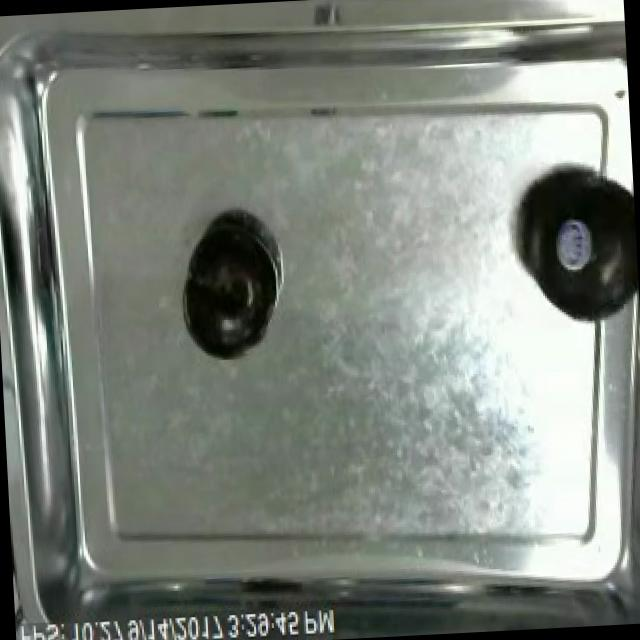Fruit: (179, 218, 278, 362), (547, 213, 602, 280)
